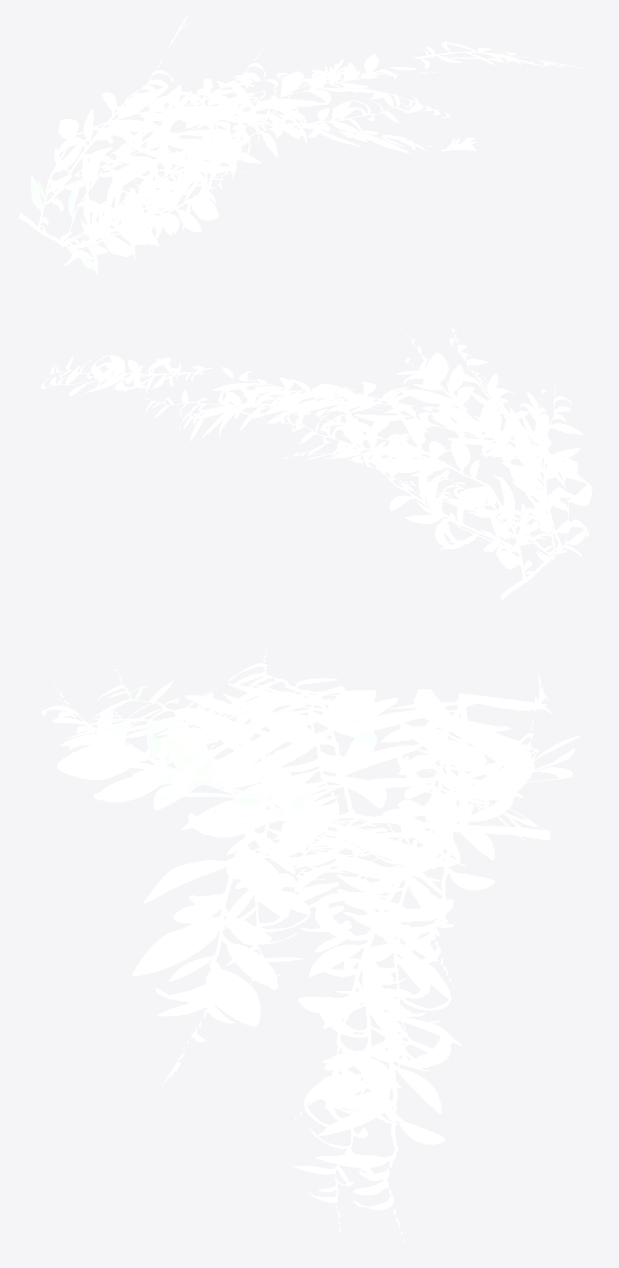
3 views of the same model, one above another, from view 1: azimuth 30°, elevation 25°; view 2: azimuth 150°, elevation 25°; view 3: azimuth 270°, elevation 25° (orthographic). The views are drawn at different scales.
Parts seen in each view (by area): view 1: SM_BM_Climbing_A_04_LOD0; view 2: SM_BM_Climbing_A_04_LOD0; view 3: SM_BM_Climbing_A_04_LOD0.
Part boxes in pixels (x1,y1,x2,y2): SM_BM_Climbing_A_04_LOD0: [19, 15, 585, 274]; SM_BM_Climbing_A_04_LOD0: [22, 314, 594, 600]; SM_BM_Climbing_A_04_LOD0: [41, 647, 581, 1242].
Size of the model in its own units: 2.21 by 0.7546 by 1.
Materials: 1 (1 with a texture image).
